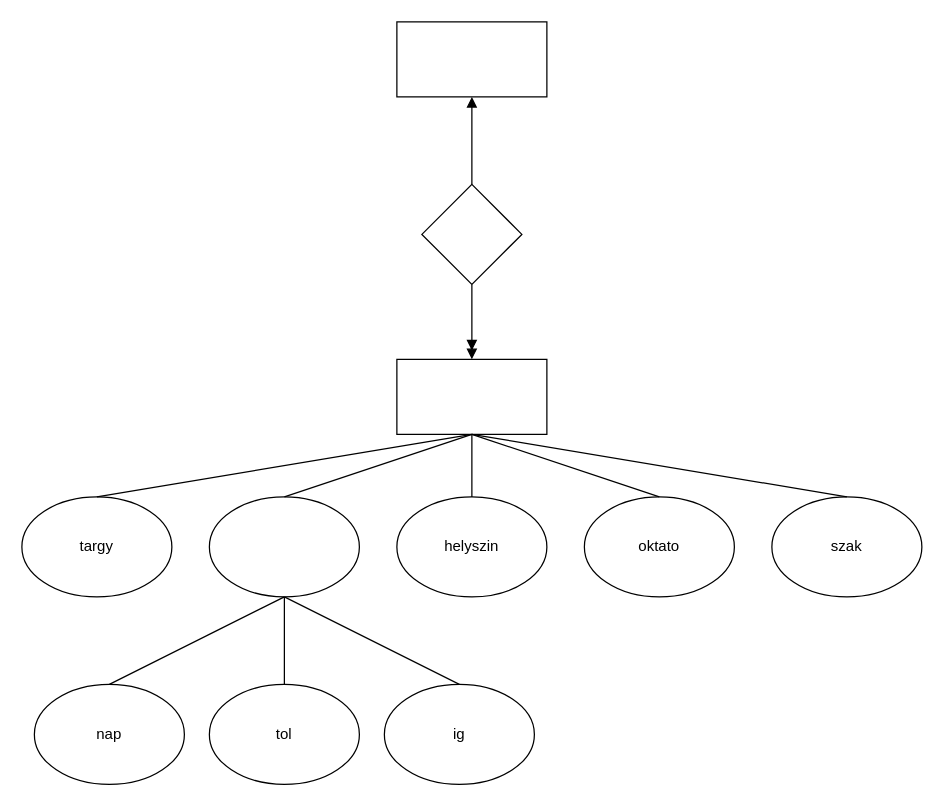
Some shapes in this 944 by 806 pixel diagram are drawn without their labels. The centre of each missing label's shape, as x and y in pixels:
HPQ9EO_orarend: point 471,59
idopont: point 283,546
ora: point 471,396
